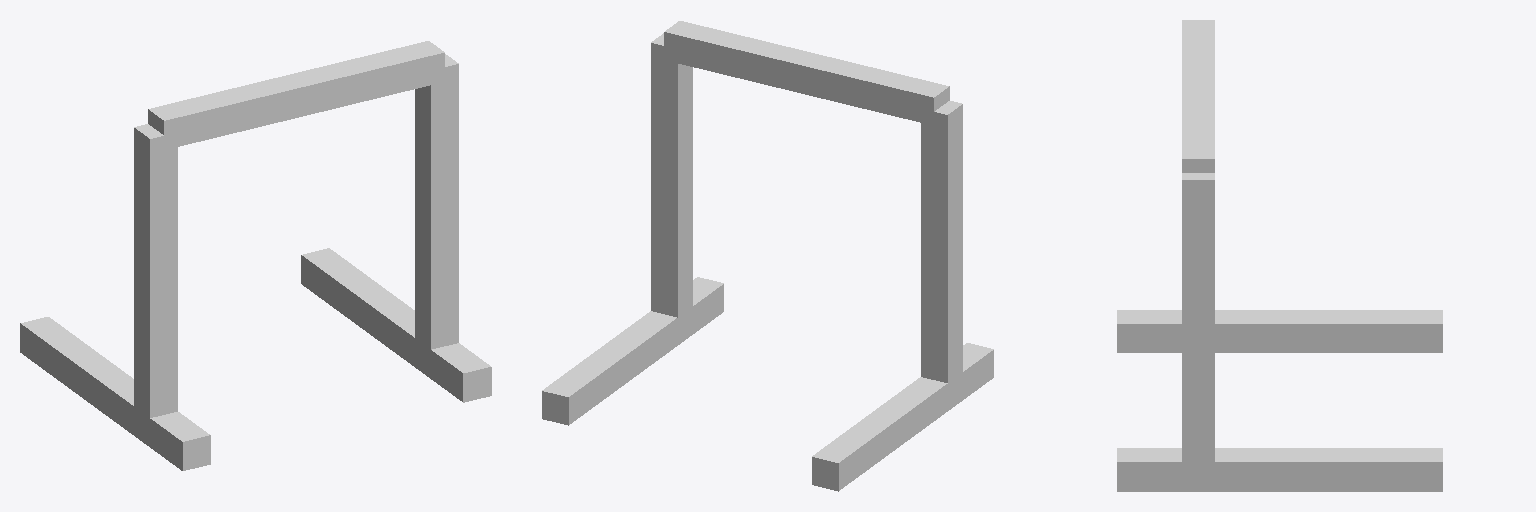
URDF robot description (walker):
<?xml version="1.0" ?>
<!-- <?xml version="1.0" encoding="utf-8"?> -->
<robot name="walker">
    <link name="pelvis">
        <inertial>
            <origin xyz="0 0 0" rpy="0 0 0"></origin>
            <mass value="12"></mass>
            <inertia ixx=".02" ixy="0" ixz="0" iyy="1.01" iyz="0" izz="1.01"></inertia>
        </inertial>
        <visual>
            <origin xyz="0 0 0" rpy="0 0 0"></origin>
            <geometry>
                <box size="1 .1 .1" />
            </geometry>
            <material name="">
                <color rgba="0.9 0.9 0.9 1.0"></color>
            </material>
        </visual>
        <collision>
            <origin xyz="0 0 0" rpy="0 0 0"></origin>
            <geometry>
                <box size="1 .1 .1" />
            </geometry>
        </collision>
    </link>

    <joint name="left_hip" type="revolute">
        <origin xyz="-.5 0 0" rpy="0 0 0"/>
        <parent link="pelvis"/>
        <child link="left_leg"/>
        <axis xyz="1 0 0"/> 
        <limit effort="100" velocity="10.0" lower="-6.14" upper="6.14" />
    </joint>

    <link name="left_leg">
        <inertial>
            <origin xyz="0 0 -.5" rpy="0 0 0"></origin>
            <mass value="12"></mass>
            <inertia ixx="1.01" ixy="0" ixz="0" iyy="1.01" iyz="0" izz=".02"></inertia>
        </inertial>
        <visual>
            <origin xyz="0 0 -.5" rpy="0 0 0"></origin>
            <geometry>
                <box size=".1 .1 1" />
            </geometry>
            <material name="">
                <color rgba="0.9 0.9 0.9 1.0"></color>
            </material>
        </visual>
        <collision>
            <origin xyz="0 0 -.5" rpy="0 0 0"></origin>
            <geometry>
                <box size=".1 .1 1" />
            </geometry>
        </collision>
    </link>

    <joint name="left_ankle" type="revolute">
        <origin xyz="0 0 -1" rpy="0 0 0"/>
        <parent link="left_leg"/>
        <child link="left_foot"/>
        <axis xyz="1 0 0"/> 
        <limit effort="100" velocity="10.0" lower="-6.14" upper="6.14" />
    </joint>

    <link name="left_foot">
        <inertial>
            <origin xyz="0 .25 0" rpy="0 0 0"></origin>
            <mass value="12"></mass>
            <inertia ixx="1.01" ixy="0" ixz="0" iyy=".02" iyz="0" izz="1.01"></inertia>
        </inertial>
        <visual>
            <origin xyz="0 .25 0" rpy="0 0 0"></origin>
            <geometry>
                <box size=".1 1 .1" />
            </geometry>
            <material name="">
                <color rgba="0.9 0.9 0.9 1.0"></color>
            </material>
        </visual>
        <collision>
            <origin xyz="0 .25 0" rpy="0 0 0"></origin>
            <geometry>
                <box size=".1 1 .1" />
            </geometry>
        </collision>
    </link>

    <joint name="right_hip" type="revolute">
        <origin xyz=".5 0 0" rpy="0 0 0"/>
        <parent link="pelvis"/>
        <child link="right_leg"/>
        <axis xyz="1 0 0"/> 
        <limit effort="100" velocity="10.0" lower="-6.14" upper="6.14" />
    </joint>

    <link name="right_leg">
        <inertial>
            <origin xyz="0 0 -.5" rpy="0 0 0"></origin>
            <mass value="12"></mass>
            <inertia ixx="1.01" ixy="0" ixz="0" iyy="1.01" iyz="0" izz=".02"></inertia>
        </inertial>
        <visual>
            <origin xyz="0 0 -.5" rpy="0 0 0"></origin>
            <geometry>
                <box size=".1 .1 1" />
            </geometry>
            <material name="">
                <color rgba="0.9 0.9 0.9 1.0"></color>
            </material>
        </visual>
        <collision>
            <origin xyz="0 0 -.5" rpy="0 0 0"></origin>
            <geometry>
                <box size=".1 .1 1" />
            </geometry>
        </collision>
    </link>

    <joint name="right_ankle" type="revolute">
        <origin xyz="0 0 -1" rpy="0 0 0"/>
        <parent link="right_leg"/>
        <child link="right_foot"/>
        <axis xyz="1 0 0"/> 
        <limit effort="100" velocity="10.0" lower="-6.14" upper="6.14" />
    </joint>

    <link name="right_foot">
        <inertial>
            <origin xyz="0 .25 0" rpy="0 0 0"></origin>
            <mass value="12"></mass>
            <inertia ixx="1.01" ixy="0" ixz="0" iyy=".02" iyz="0" izz="1.01"></inertia>
        </inertial>
        <visual>
            <origin xyz="0 .25 0" rpy="0 0 0"></origin>
            <geometry>
                <box size=".1 1 .1" />
            </geometry>
            <material name="">
                <color rgba="0.9 0.9 0.9 1.0"></color>
            </material>
        </visual>
        <collision>
            <origin xyz="0 .25 0" rpy="0 0 0"></origin>
            <geometry>
                <box size=".1 1 .1" />
            </geometry>
        </collision>
    </link>

</robot>

--- Facts derived from the render (not from the file) ---
Views: 3 orthographic renders of the robot side by side, from view 1: azimuth 30°, elevation 25°; view 2: azimuth 150°, elevation 25°; view 3: azimuth 270°, elevation 25°.
Robot: walker — 5 links, 4 joints (4 revolute); root link pelvis; default pose: all joints at 0.
Links seen in each view (by area): view 1: pelvis, left_leg, right_leg, left_foot, right_foot; view 2: pelvis, left_leg, right_leg, right_foot, left_foot; view 3: right_foot, left_foot, right_leg, pelvis.
Link boxes in pixels (x1,y1,x2,y2): pelvis: (148, 41, 444, 149); left_leg: (134, 124, 177, 431); right_leg: (415, 54, 458, 363); left_foot: (20, 317, 210, 470); right_foot: (301, 248, 491, 402); pelvis: (664, 21, 949, 125); left_leg: (921, 101, 962, 396); right_leg: (651, 33, 692, 330); right_foot: (542, 277, 723, 425); left_foot: (812, 343, 993, 491); right_foot: (1117, 448, 1442, 491); left_foot: (1117, 310, 1442, 352); right_leg: (1182, 173, 1214, 475); pelvis: (1182, 20, 1214, 172).
Size in the robot's own frame: 1.1 by 1 by 1.1 metres.
Geometry: primitives only (box / cylinder / sphere), no mesh files.